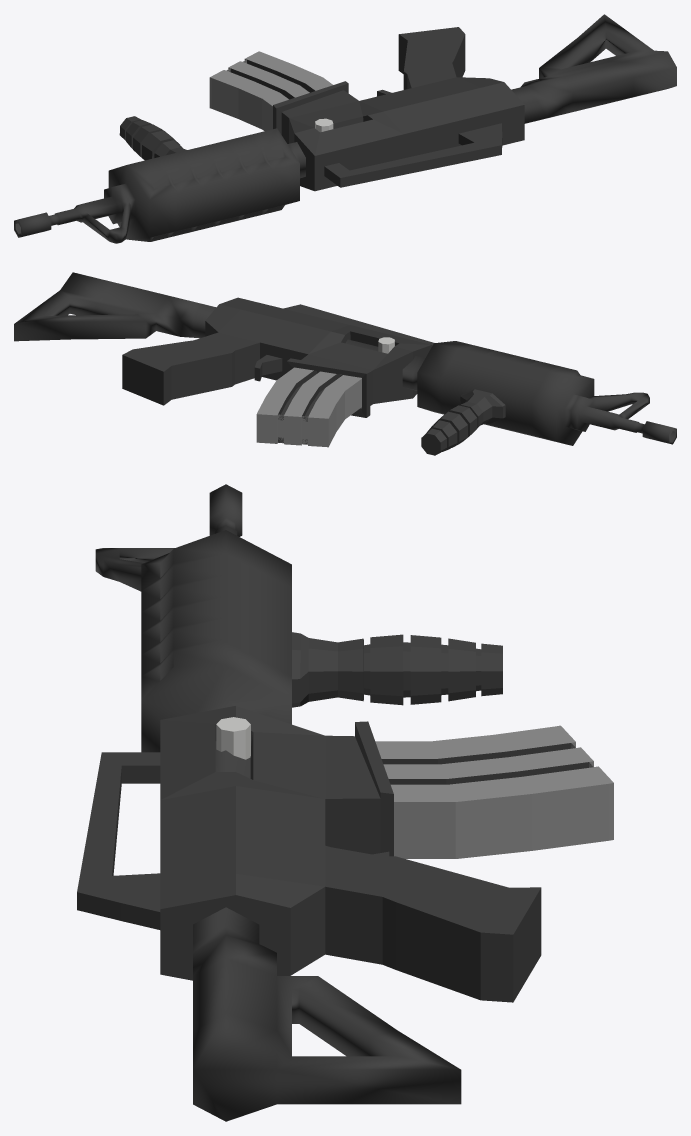
Rendered from char_015_weapon_01_machine_gun_01_FBX.fbx.
3 renders of one model, top to bottom at view 1: azimuth 30°, elevation 25°; view 2: azimuth 150°, elevation 25°; view 3: azimuth 270°, elevation 25°, orthographic. The views are drawn at different scales.
Visible parts, largest first — view 1: gun_body.003, gun_handler.001, gun_bullet_bag.001, gun_hadler_frontal.001; view 2: gun_body.003, gun_handler.001, gun_bullet_bag.001, gun_hadler_frontal.001; view 3: gun_handler.001, gun_body.003, gun_bullet_bag.001, gun_hadler_frontal.001, gun_bullet_pin.001.
Boxes of the visible parts, x1=… form: gun_body.003: x1=14, y1=14, x2=676, y2=243; gun_handler.001: x1=273, y1=27, x2=524, y2=191; gun_bullet_bag.001: x1=209, y1=51, x2=332, y2=130; gun_hadler_frontal.001: x1=119, y1=116, x2=186, y2=160; gun_body.003: x1=14, y1=272, x2=676, y2=445; gun_handler.001: x1=122, y1=297, x2=434, y2=417; gun_bullet_bag.001: x1=256, y1=367, x2=361, y2=447; gun_hadler_frontal.001: x1=421, y1=389, x2=505, y2=455; gun_handler.001: x1=77, y1=706, x2=541, y2=1002; gun_body.003: x1=95, y1=484, x2=461, y2=1121; gun_bullet_bag.001: x1=375, y1=725, x2=613, y2=858; gun_hadler_frontal.001: x1=292, y1=632, x2=502, y2=707; gun_bullet_pin.001: x1=216, y1=717, x2=250, y2=759.
Bounding box in the file's own units: 3.17 × 0.3474 × 1.23.
1 material, 1 textured.
